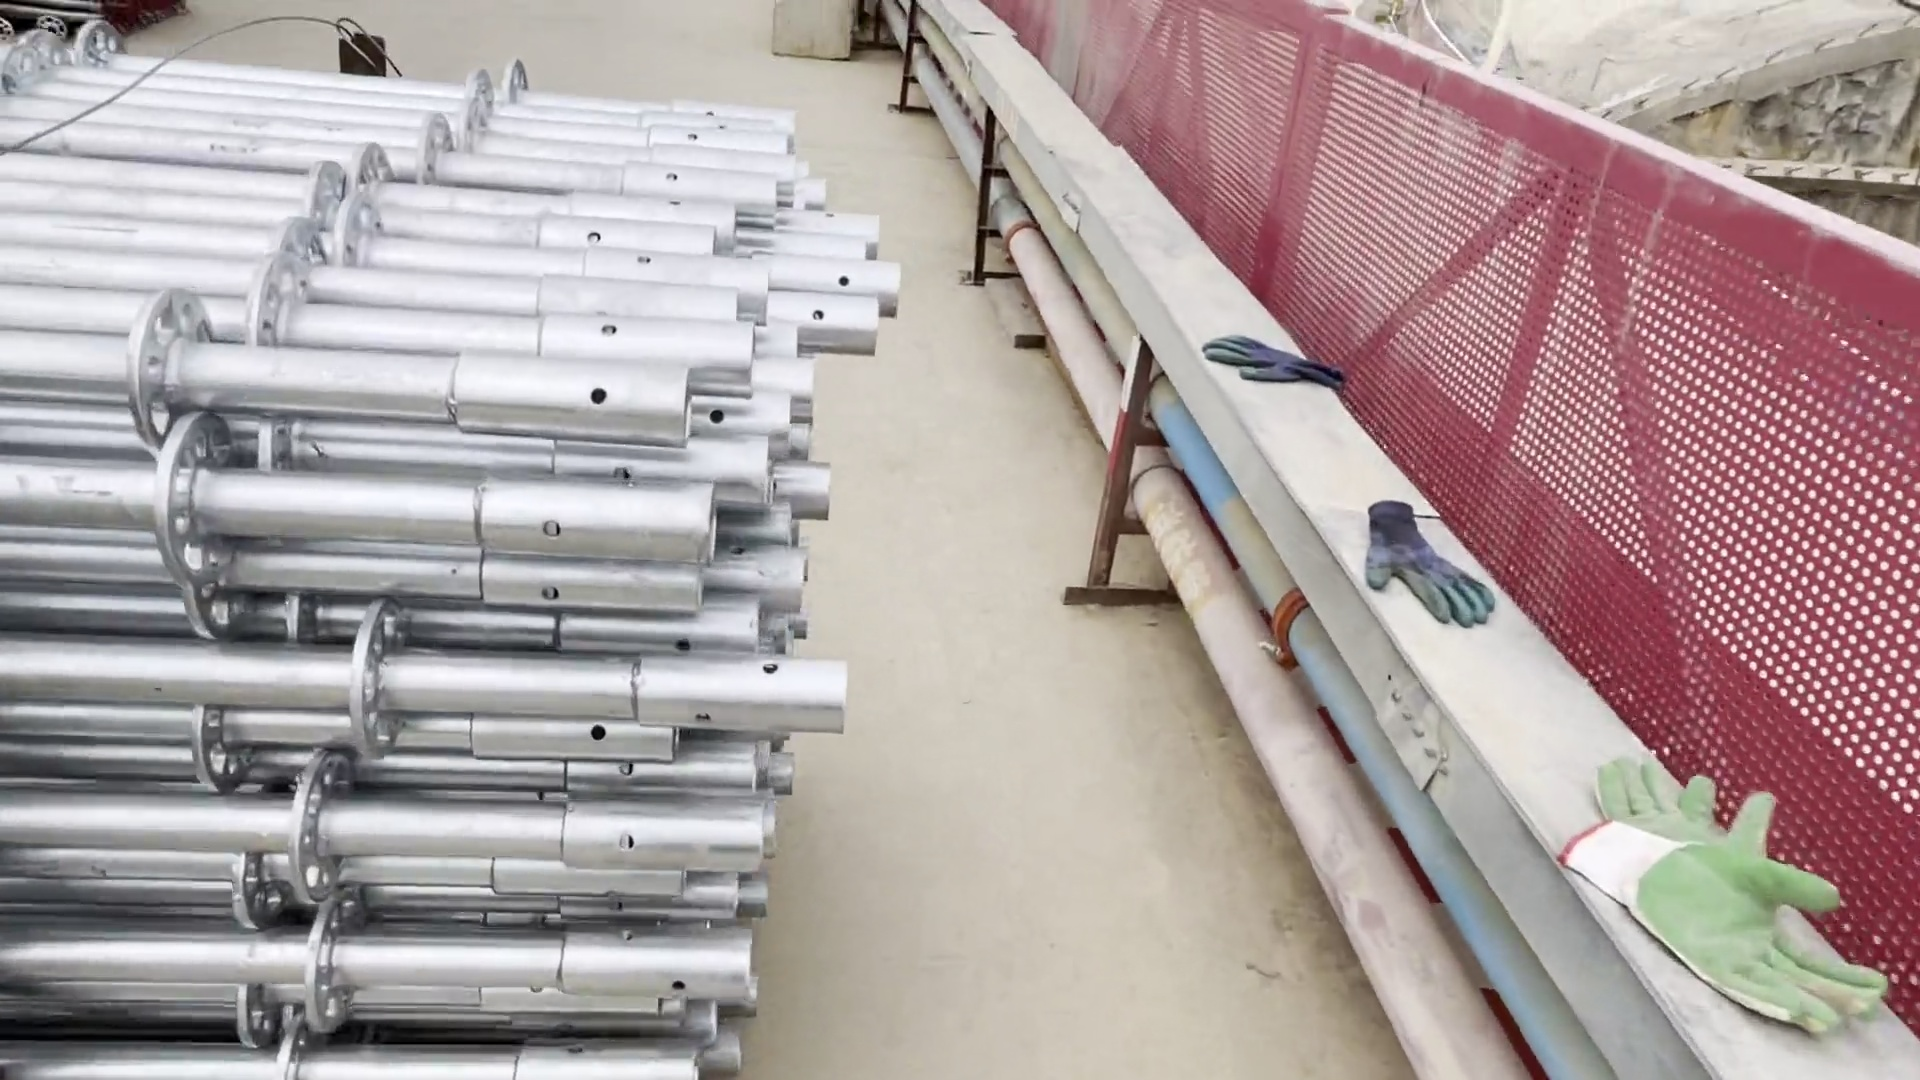fence: (1267, 38, 1920, 1033), (1067, 3, 1327, 302)
scaffold: (7, 75, 905, 1080)
